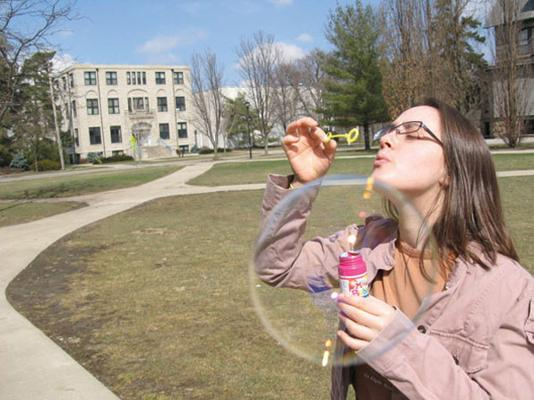person: (255, 100, 533, 400)
